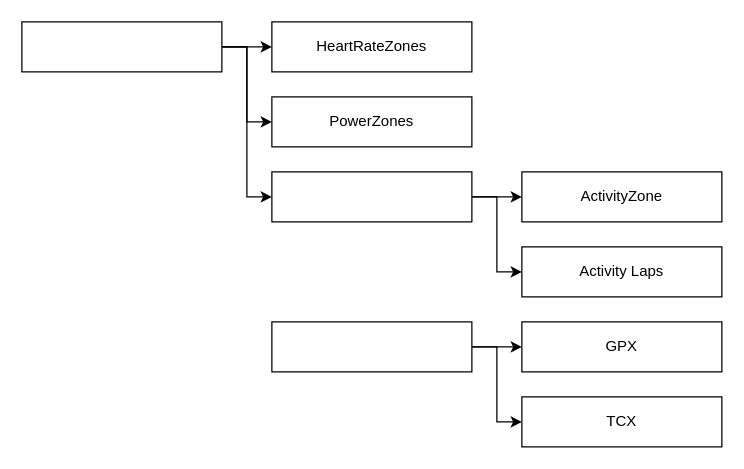
The diagram is 744 pixels wide and 469 high, and some of its shapes have lost their labels. The centre of each missing label's shape, as x and y in pixels:
Activities: point 371,196
Routes: point 371,346
User: point 121,46
